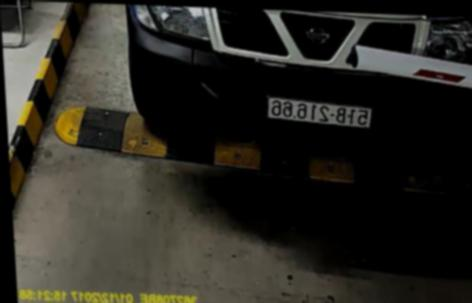License_Plate: (266, 99, 373, 126)
